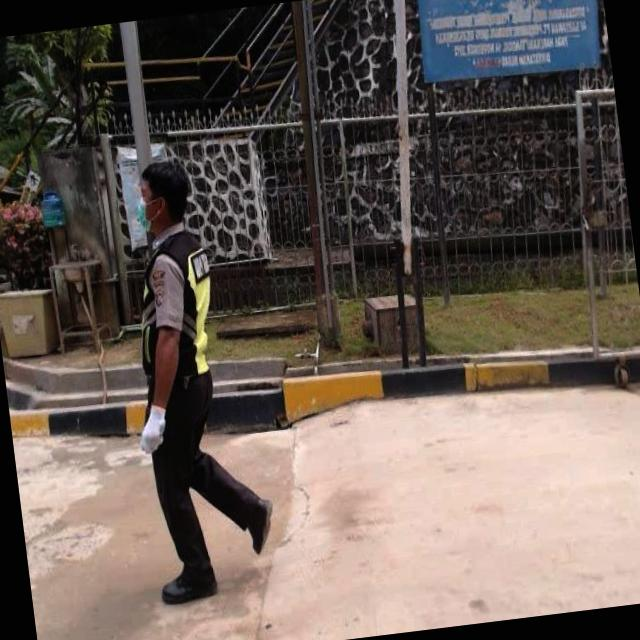vest: (125, 226, 222, 390)
